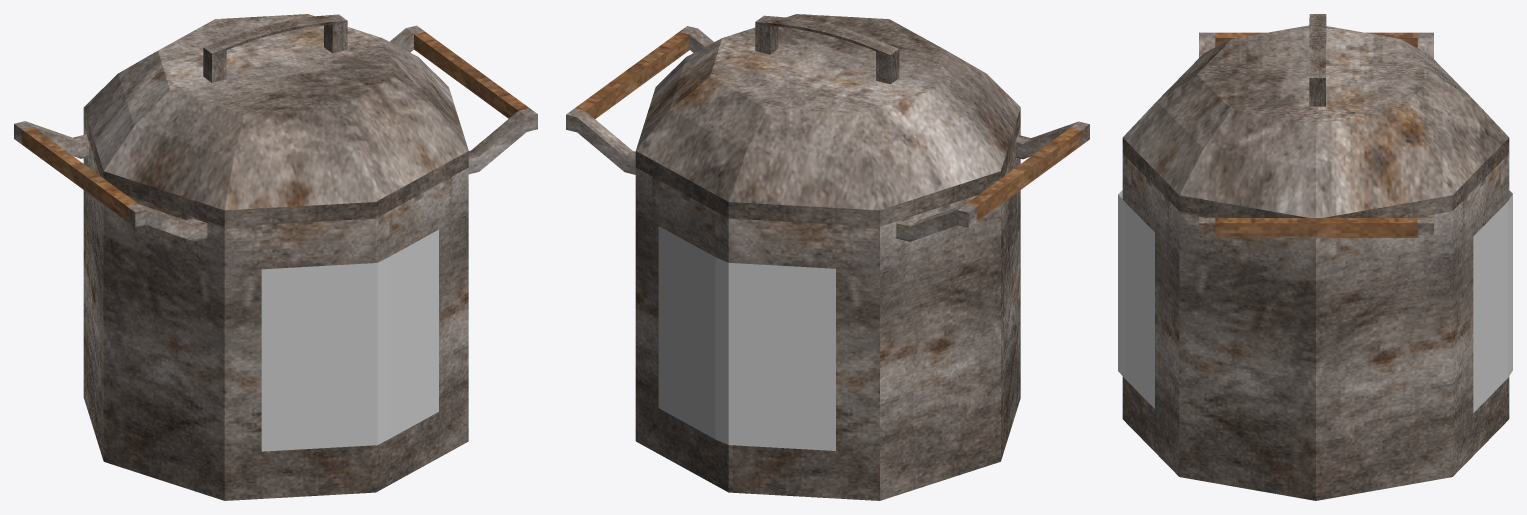
File: Pot.fbx
3 views of the same model, side by side, from view 1: azimuth 30°, elevation 25°; view 2: azimuth 150°, elevation 25°; view 3: azimuth 270°, elevation 25° (orthographic). The views are drawn at different scales.
Parts seen in each view (by area): view 1: Pot, Cover, logo.009; view 2: Pot, Cover, logo.001; view 3: Pot, Cover, logo.001, logo.009.
Boxes of the visible parts, x1,y1,x2,y2 form: Pot: [14, 25, 537, 500]; Cover: [83, 14, 468, 226]; logo.009: [261, 229, 438, 451]; Pot: [566, 26, 1089, 500]; Cover: [635, 14, 1020, 226]; logo.001: [658, 226, 835, 450]; Pot: [1122, 32, 1509, 500]; Cover: [1122, 14, 1509, 217]; logo.001: [1473, 190, 1512, 412]; logo.009: [1118, 190, 1154, 408].
Size of the model in its own units: 2.33 by 2.17 by 2.04.
